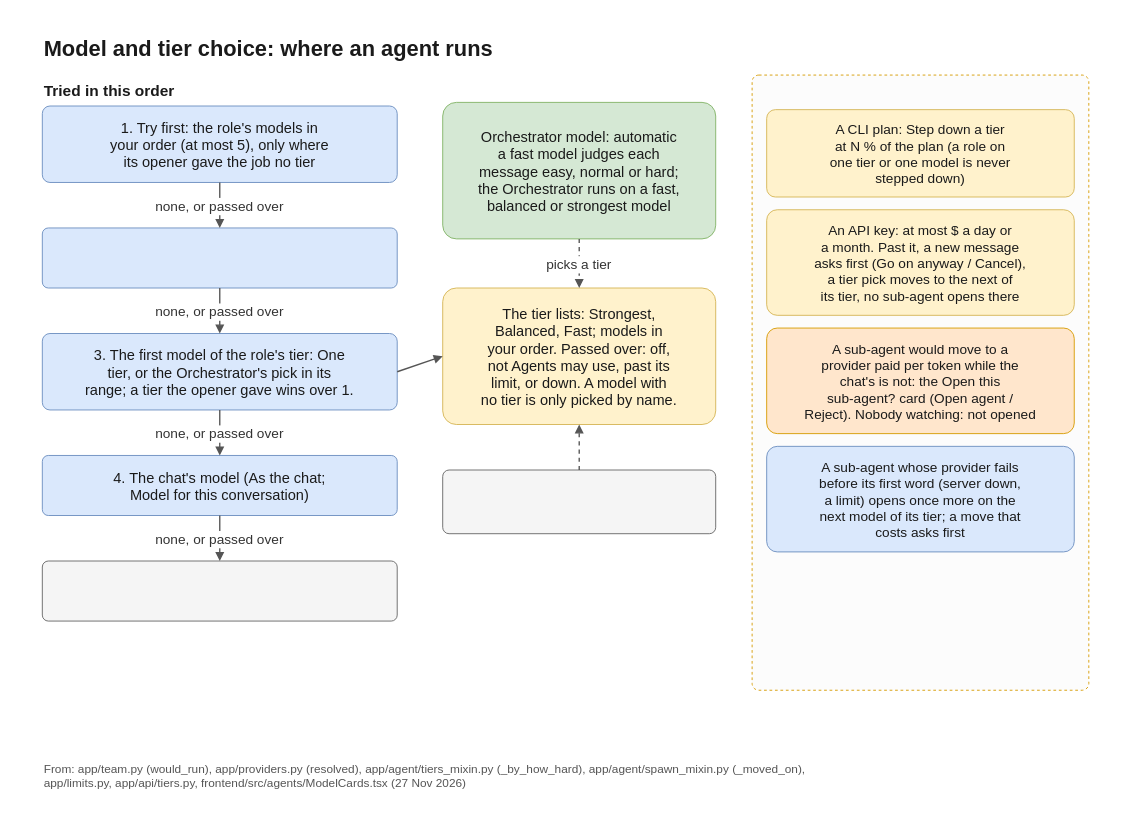
Some shapes in this 1122 by 831 pixel diagram are drawn without their labels. The shapes that lost their labels are listed below. From the top down, each one's box as (x1, y1, x2, y2) in pixels, then its label:
(41, 227, 397, 288): 2. The role's own model (Who picks it? One model)
(751, 74, 1089, 690): Limits and moves
(442, 469, 716, 534): An agent may call a job easy or hard: one tier down or up
(41, 560, 397, 621): 5. The default provider (the first one in the list)
